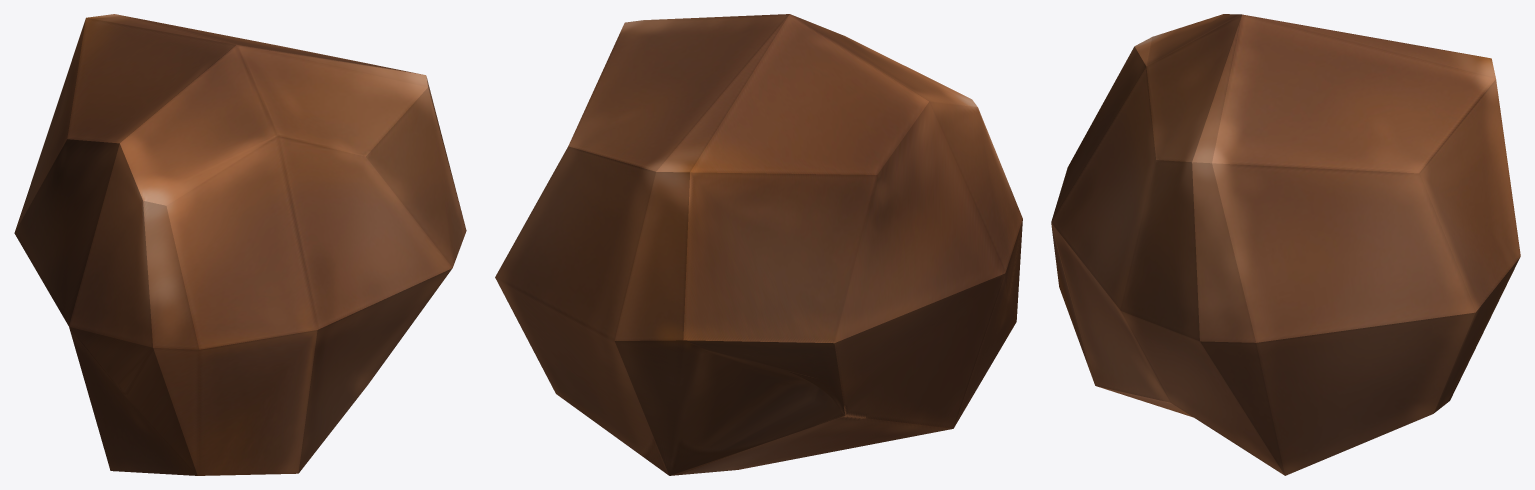
File: intro_prop(rock)_01.FBX
3 views of the same model, side by side, from view 1: azimuth 30°, elevation 25°; view 2: azimuth 150°, elevation 25°; view 3: azimuth 270°, elevation 25° (orthographic). The views are drawn at different scales.
Parts seen in each view (by area): view 1: rock; view 2: rock; view 3: rock.
Part boxes in pixels (<box>): rock: <box>14,14,466,475</box>; rock: <box>495,14,1022,475</box>; rock: <box>1051,14,1520,475</box>.
Size of what is drawn, in the model's own units: 38.84 by 39.37 by 39.09.
